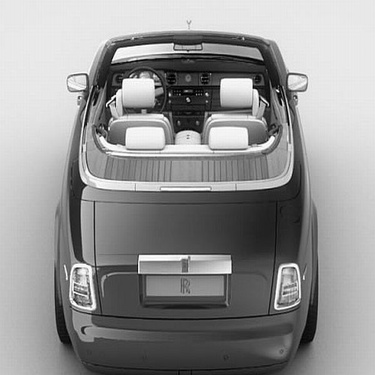car: (45, 18, 320, 372)
